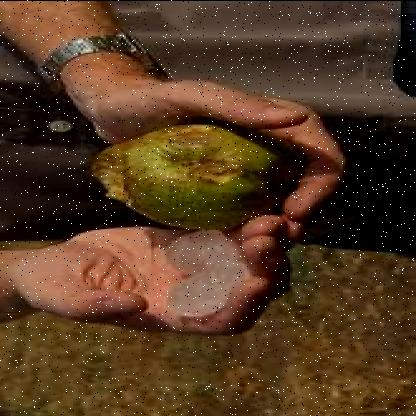damaged_apple: (98, 120, 290, 225)
